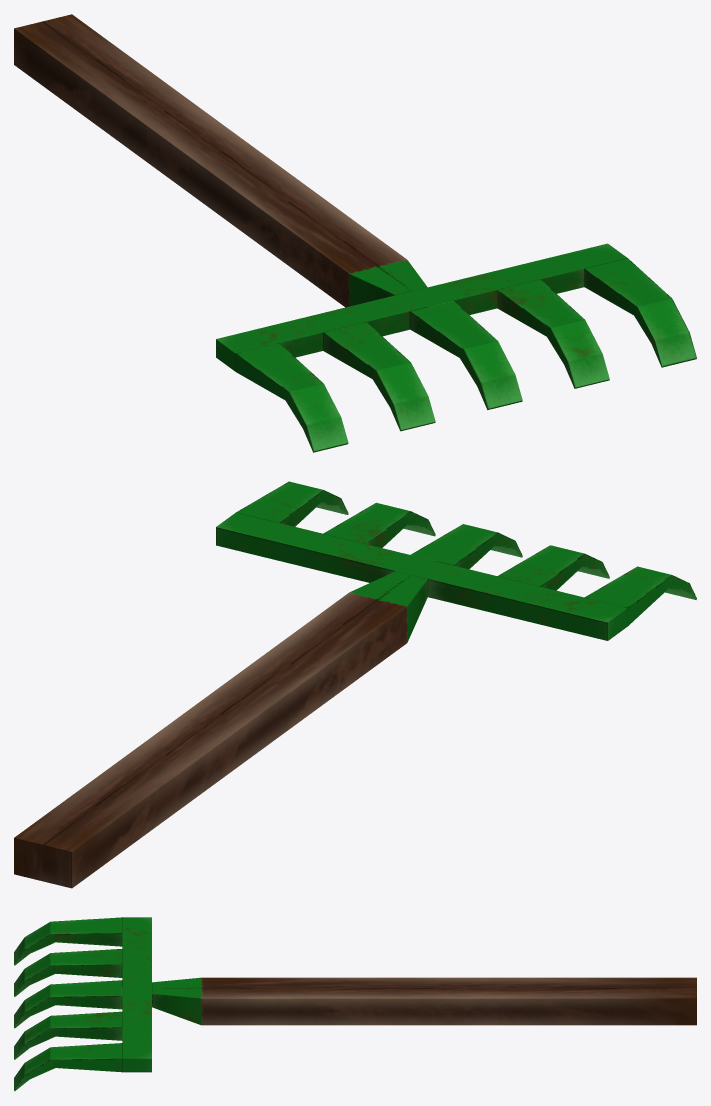
The model's file is Rake.glb.
3 views of the same model, one above another, from view 1: azimuth 30°, elevation 25°; view 2: azimuth 150°, elevation 25°; view 3: azimuth 270°, elevation 25° (orthographic). The views are drawn at different scales.
Visible parts, largest first — view 1: Rake; view 2: Rake; view 3: Rake.
Boxes of the visible parts, box(x1,y1,x2,y2) form: Rake: box(14, 14, 696, 452); Rake: box(14, 481, 696, 888); Rake: box(14, 917, 696, 1091).
Bounding box in the file's own units: 0.3375 × 0.0383 × 0.6894.
Materials: 1 (1 with a texture image).
